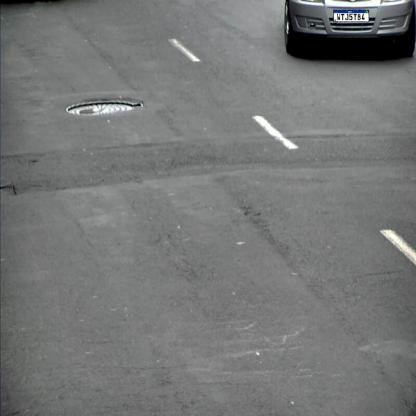PlacaM: (334, 10, 370, 22)
